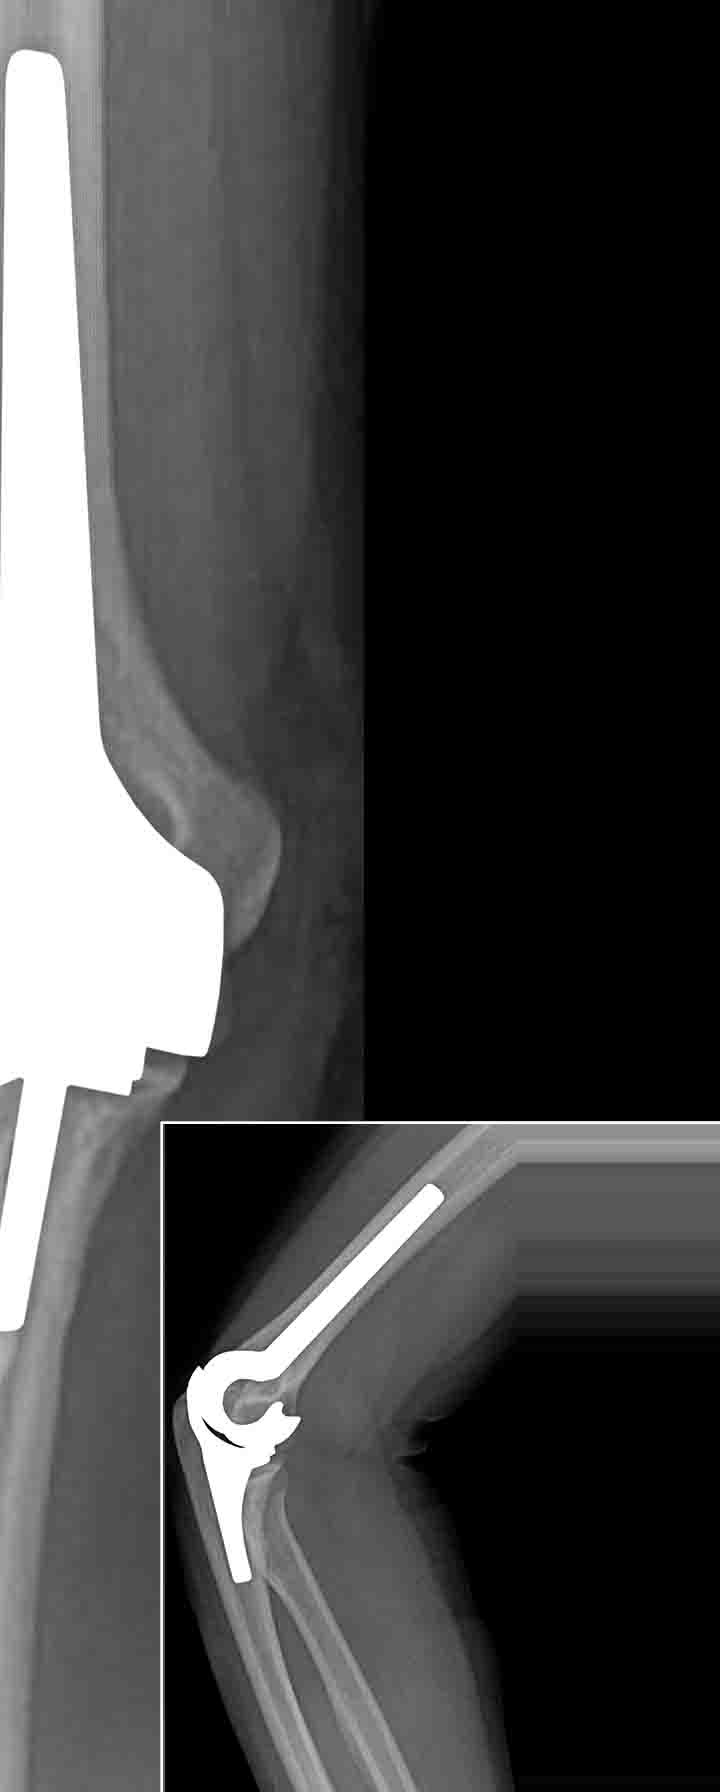Elbow - IBP - Biomet: (1, 29, 233, 1338), (174, 1159, 493, 1591)
